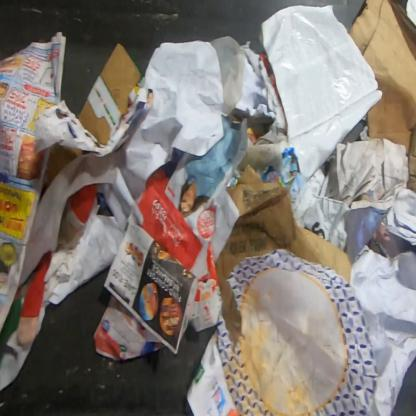cardboard: (215, 163, 350, 349), (349, 0, 415, 153), (77, 44, 144, 146), (43, 142, 83, 194)
